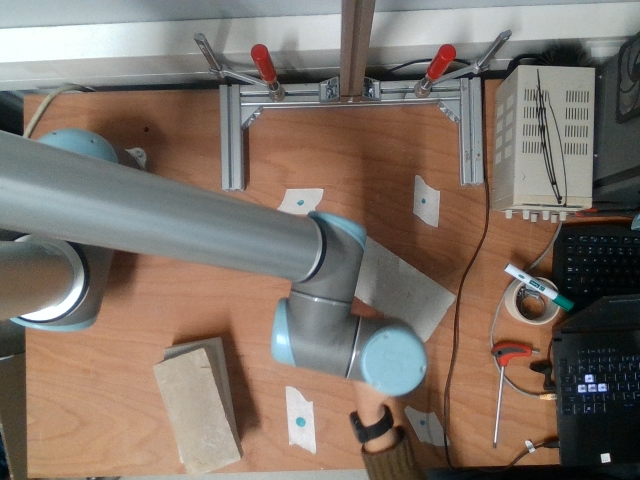brick: (157, 351, 239, 476)
